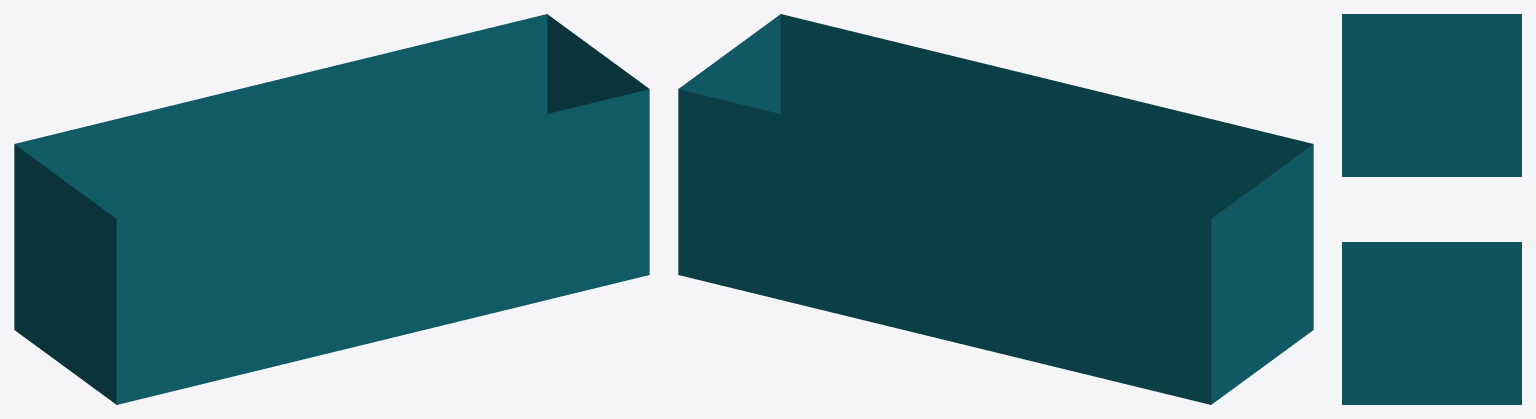
Rendered from platform-lava.fbx.
The picture shows the model from 3 angles, left to right: view 1: azimuth 30°, elevation 25°; view 2: azimuth 150°, elevation 25°; view 3: azimuth 270°, elevation 25°; orthographic projection. The views are drawn at different scales.
Parts seen in each view (by area): view 1: Plane.002; view 2: Plane.002; view 3: Plane.002.
Part boxes in pixels (box(x1,y1,x2,y2)): Plane.002: box(14, 14, 649, 404); Plane.002: box(678, 14, 1313, 404); Plane.002: box(1342, 14, 1521, 404).
Size of the model in its own units: 3000 by 1000 by 1000.
